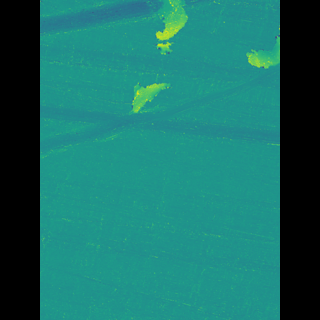Loch: (68, 61, 250, 162), (69, 0, 160, 42), (151, 0, 183, 57), (135, 76, 170, 121), (223, 25, 251, 80)
